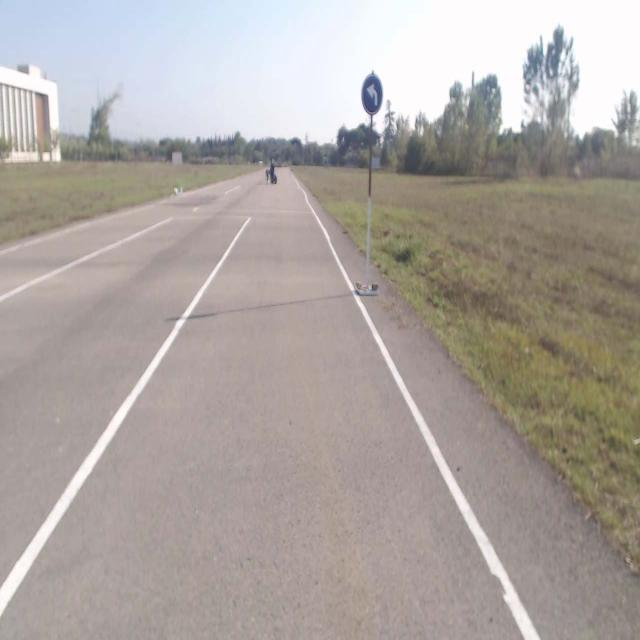sol: (362, 75, 384, 113)
